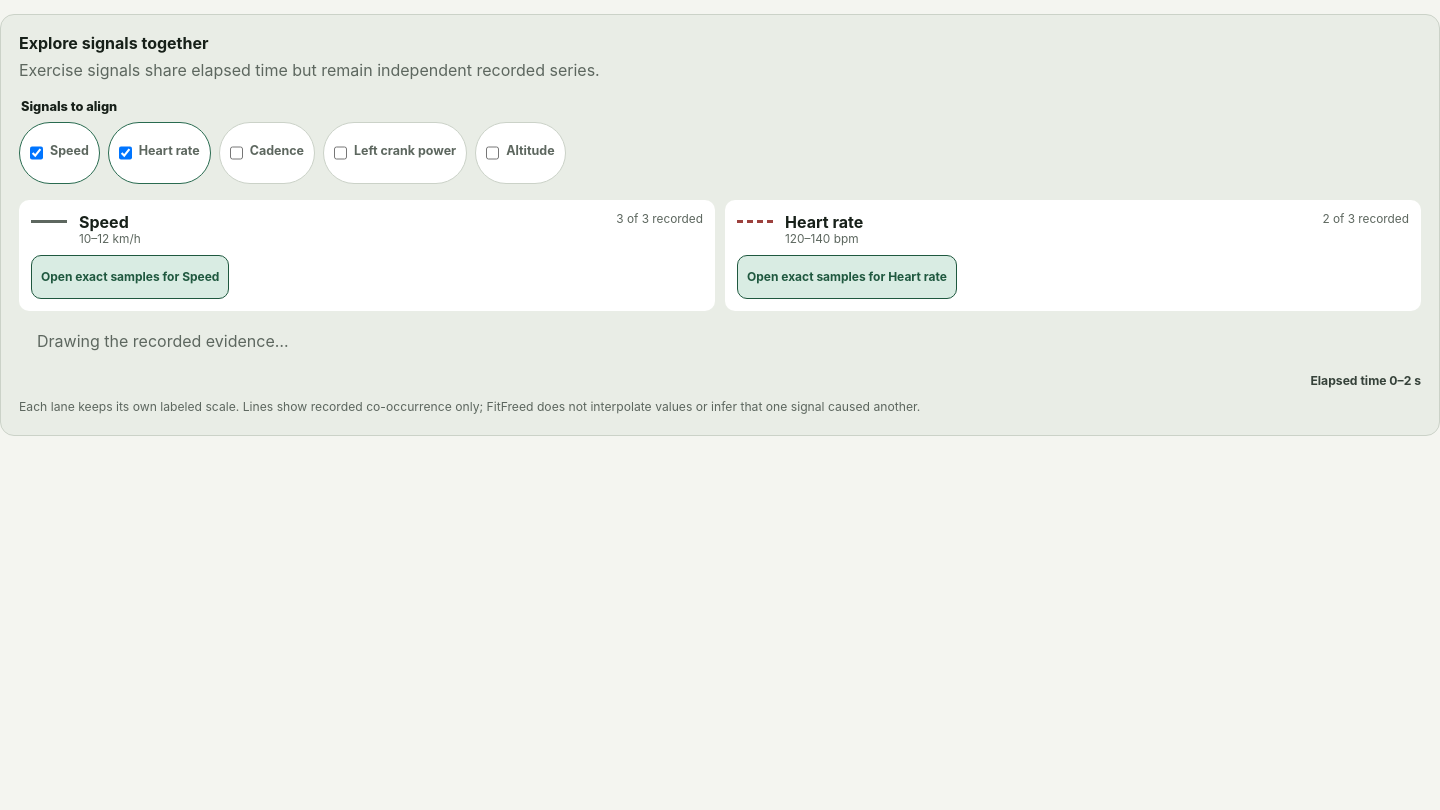
Test: TrainingCrossSignalPanel › keeps selection between one and four recorded series
The width and height of the screenshot is (1440, 810).
Click the checkbox labelled "Heart rate". click: click(125, 153)
box: x1=119 y1=131 x2=132 y2=175
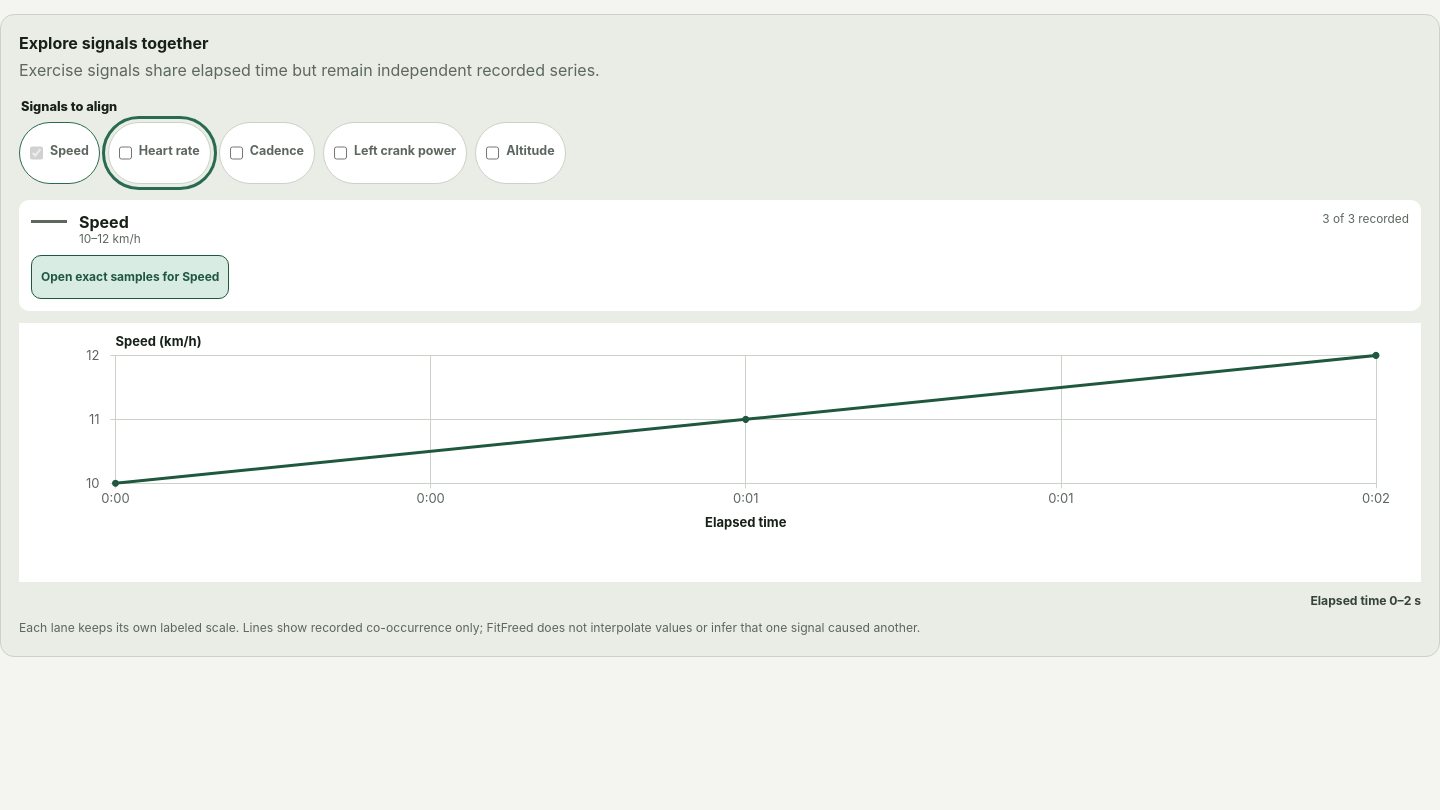
Check: the checkbox labelled "Speed" is disabled, box x1=30 y1=131 x2=43 y2=175
Click the checkbox labelled "Cadence". click: click(236, 153)
box: x1=230 y1=131 x2=243 y2=175
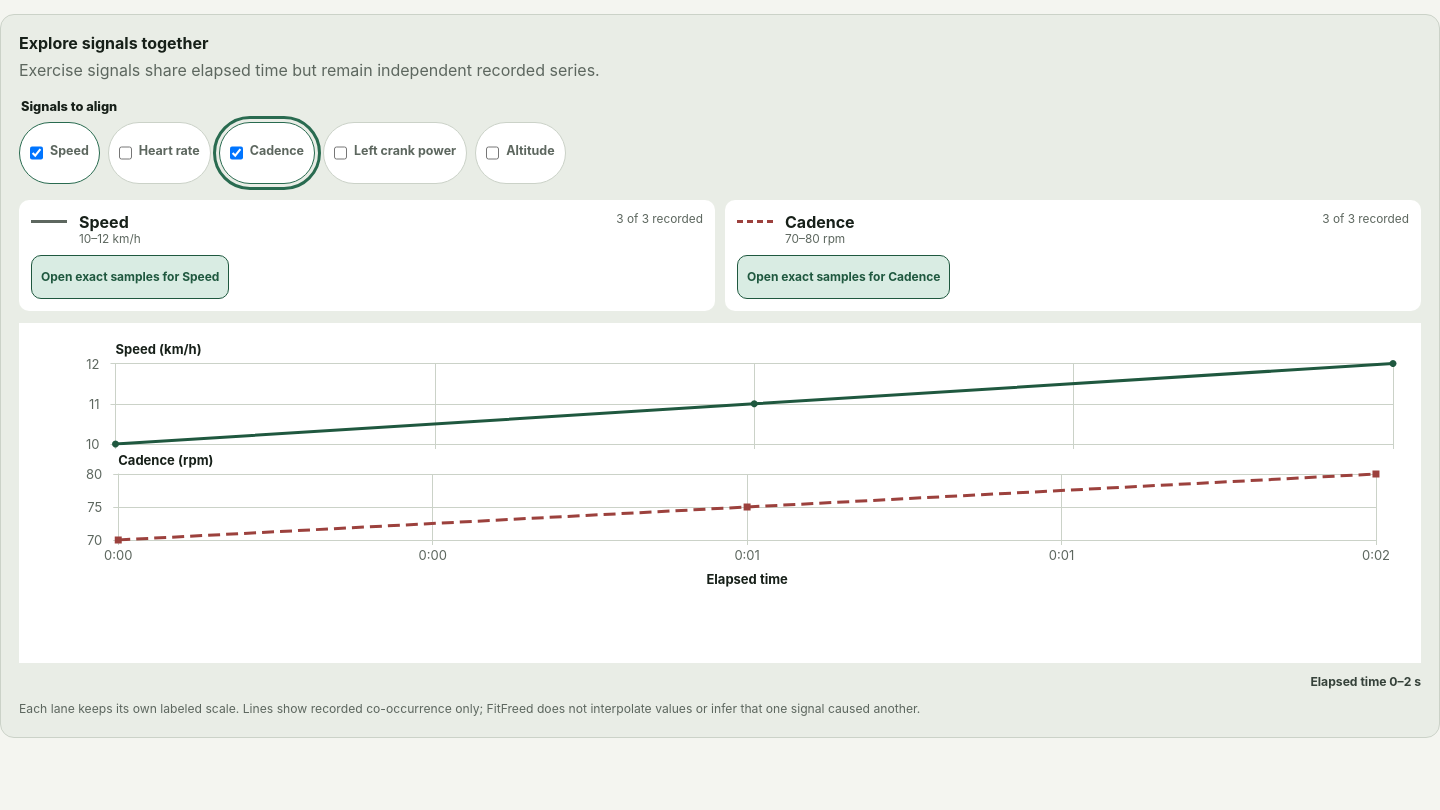
Click the checkbox labelled "Altitude". click: click(493, 153)
box: x1=486 y1=131 x2=499 y2=175
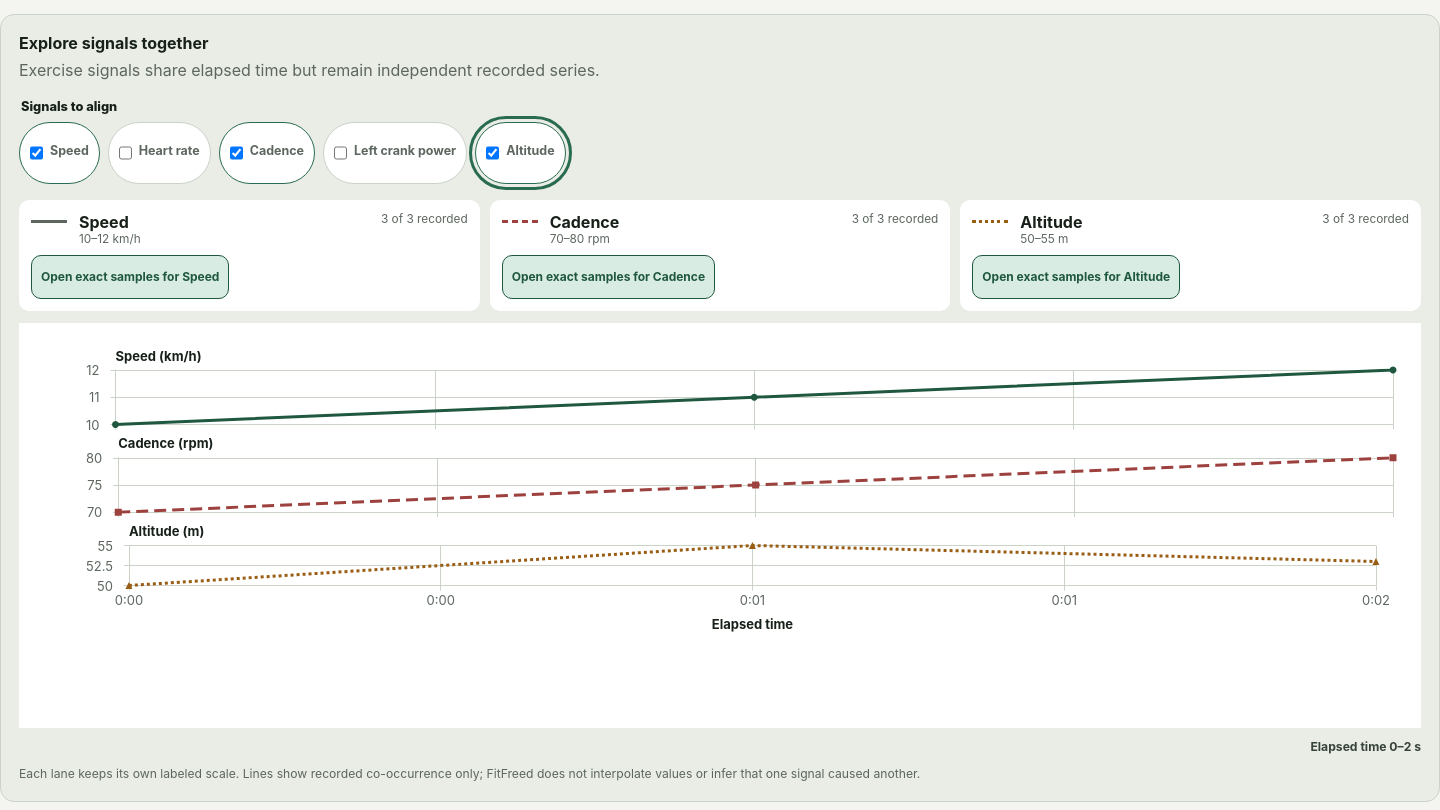
Click the checkbox labelled "Left crank power". click: click(340, 153)
box: x1=334 y1=131 x2=347 y2=175
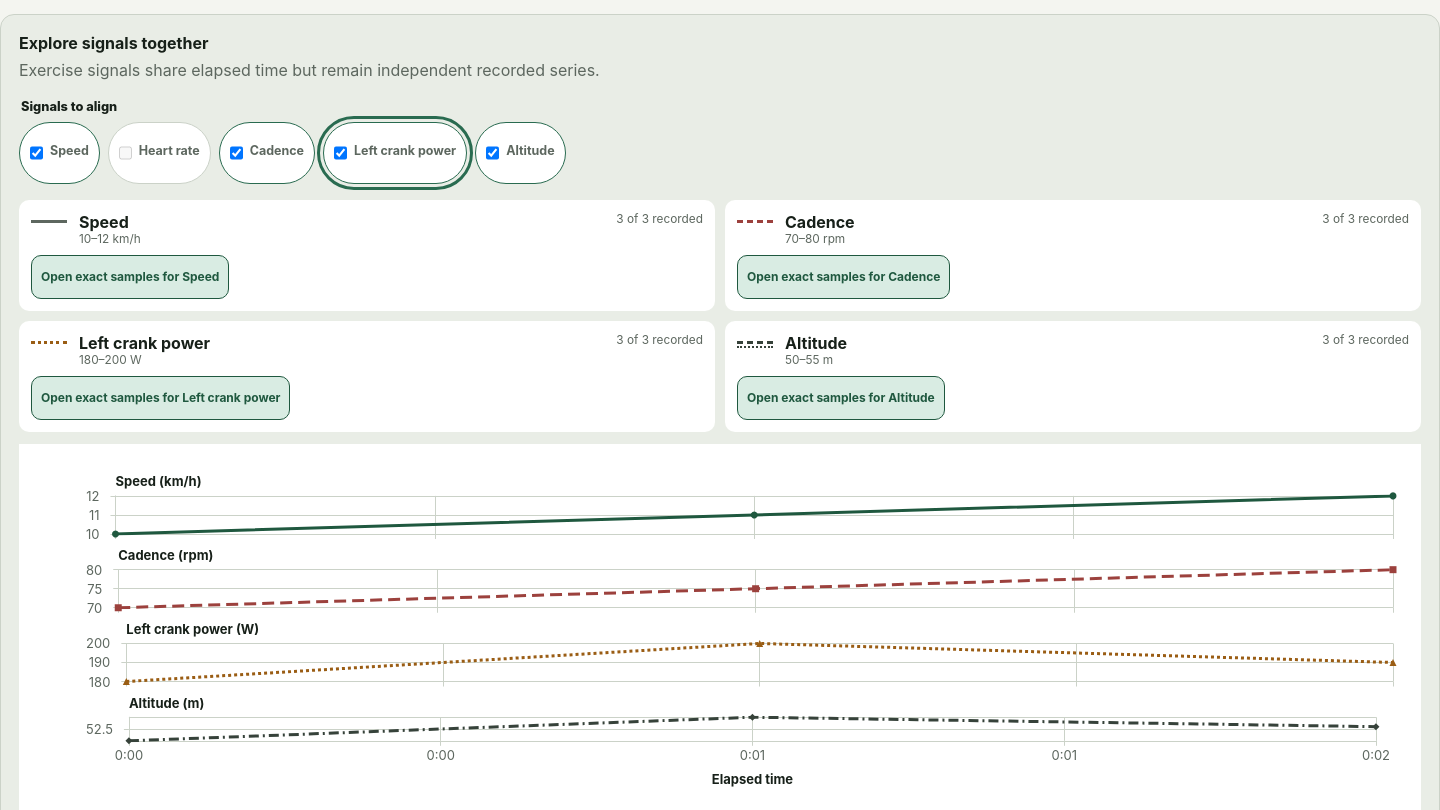
Check: the checkbox labelled "Heart rate" is disabled, box x1=119 y1=131 x2=132 y2=175
Click the checkbox labelled "Altitude". click: click(493, 153)
box: x1=486 y1=131 x2=499 y2=175
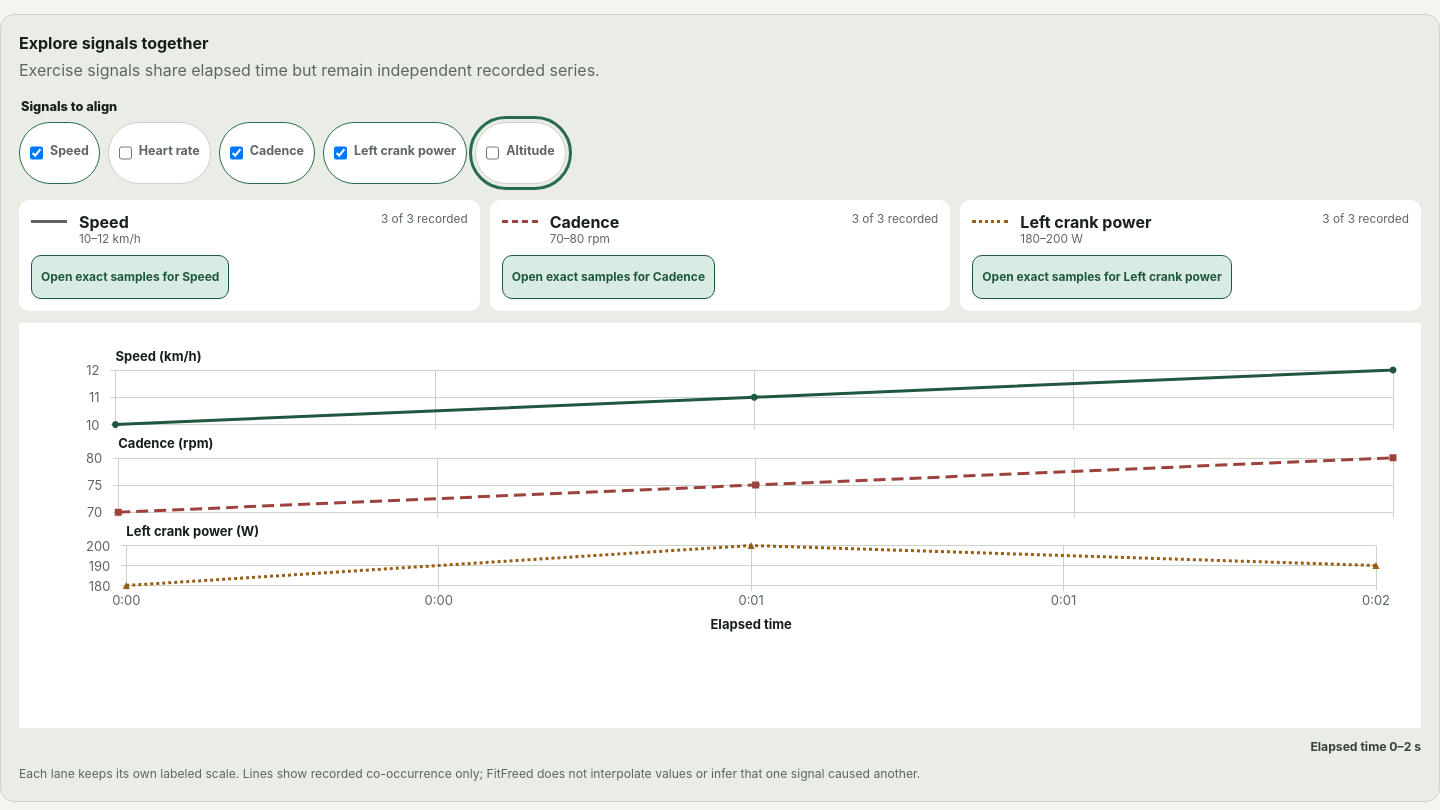
Check: the checkbox labelled "Heart rate" is enabled, box x1=119 y1=131 x2=132 y2=175
